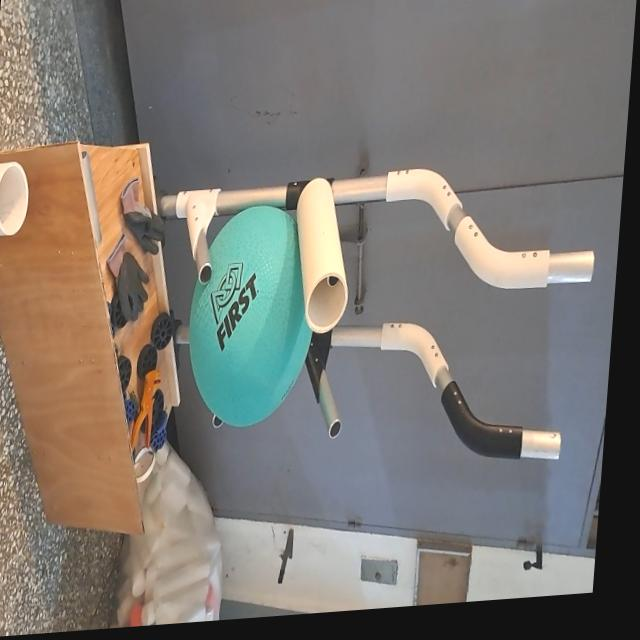ALGAE: (178, 193, 325, 432)
CORAL: (281, 171, 357, 338), (0, 152, 36, 243)
